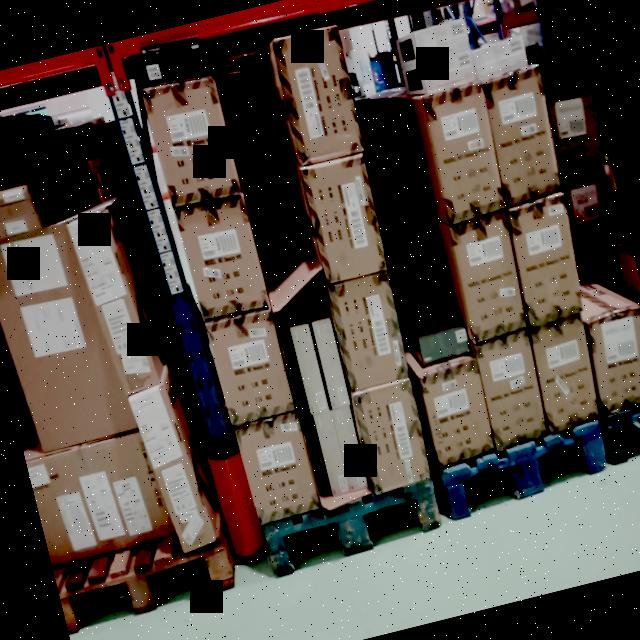box: (0, 223, 124, 449), (67, 208, 160, 411), (28, 434, 169, 566), (133, 384, 214, 550), (273, 26, 364, 167), (143, 76, 239, 205), (174, 194, 268, 321), (422, 84, 508, 220), (479, 68, 562, 202), (305, 153, 388, 284), (504, 195, 585, 324), (326, 270, 411, 392), (450, 213, 530, 338), (208, 310, 294, 425), (352, 378, 434, 491), (237, 413, 321, 523), (475, 332, 551, 448), (528, 320, 602, 430), (419, 361, 496, 465), (586, 310, 640, 414), (546, 94, 608, 181), (330, 403, 369, 492), (140, 38, 207, 88), (311, 322, 348, 408), (0, 114, 41, 191), (292, 327, 327, 411), (314, 412, 348, 494), (472, 39, 526, 81), (412, 19, 468, 58), (419, 324, 472, 364), (419, 51, 475, 88), (0, 211, 38, 245), (0, 198, 33, 229), (0, 184, 28, 214)
